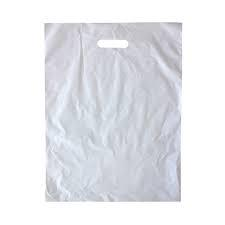Plastic: (33, 12, 186, 211)
